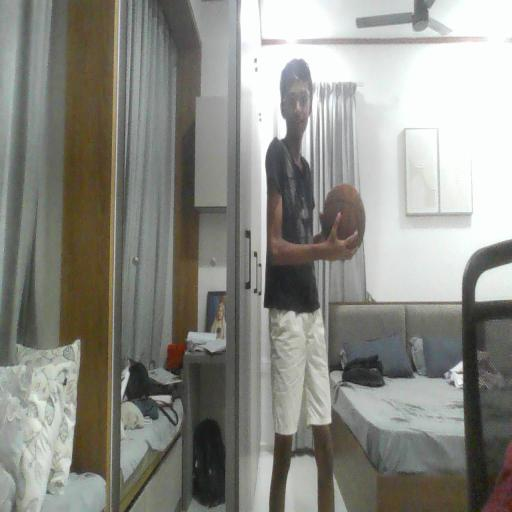basketball: (322, 183, 365, 246)
